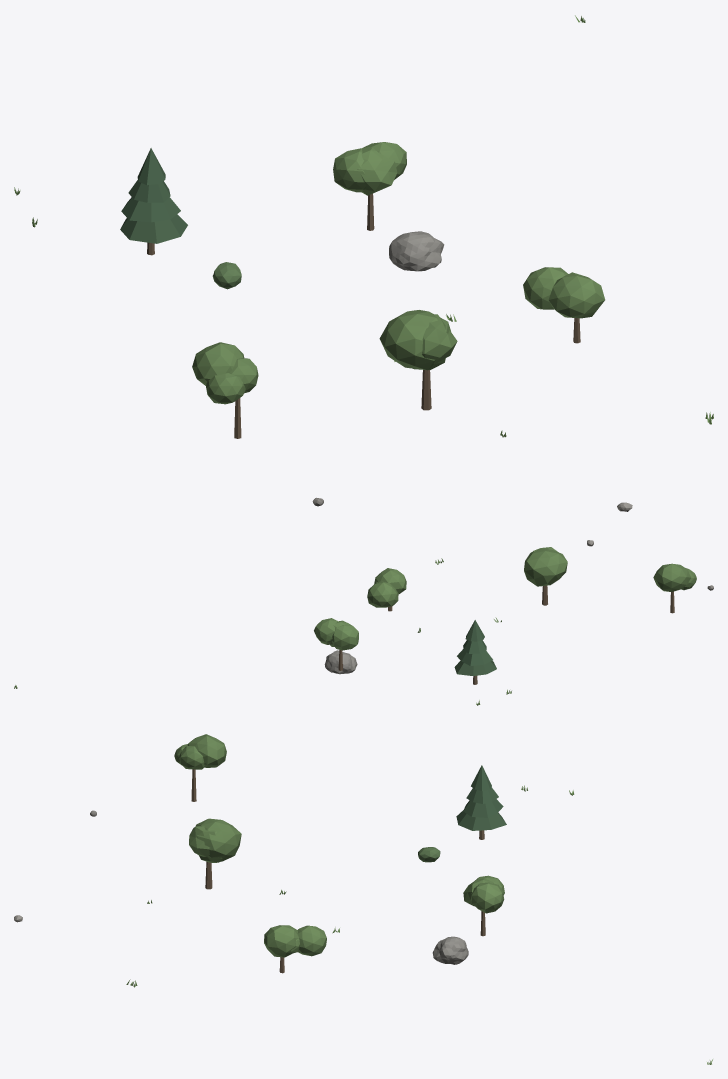
File: arch_land_scatter_c21_20.glb
3 renders of one model, top to bottom at view 1: azimuth 30°, elevation 25°; view 2: azimuth 150°, elevation 25°; view 3: azimuth 270°, elevation 25°, orthographic. The views are drawn at different scales.
Parts seen in each view (by area): view 1: arch_land_scatter_c21_20; view 2: arch_land_scatter_c21_20; view 3: arch_land_scatter_c21_20.
Part boxes in pixels (box(x1,y1,x2,y2)): arch_land_scatter_c21_20: box(14, 15, 713, 511); arch_land_scatter_c21_20: box(14, 540, 713, 705); arch_land_scatter_c21_20: box(14, 734, 712, 1064).
Bounding box in the file's own units: 69.45 × 14.67 × 80.51.
